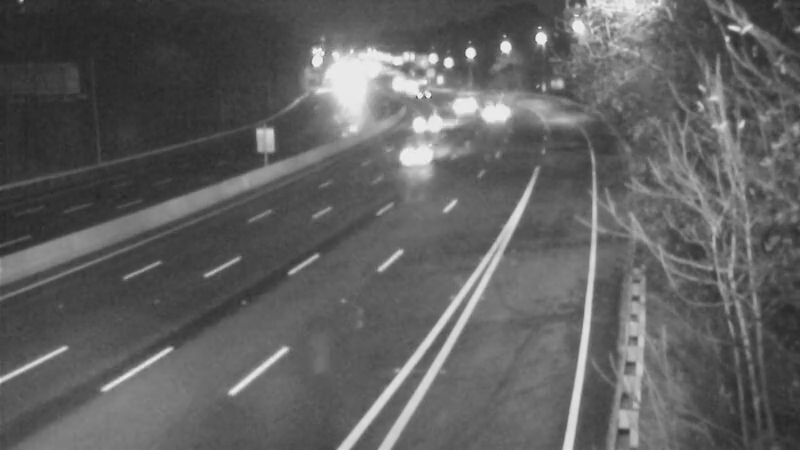vehicle: (438, 72, 488, 122), (469, 85, 519, 135), (392, 99, 442, 149), (389, 125, 439, 175)
